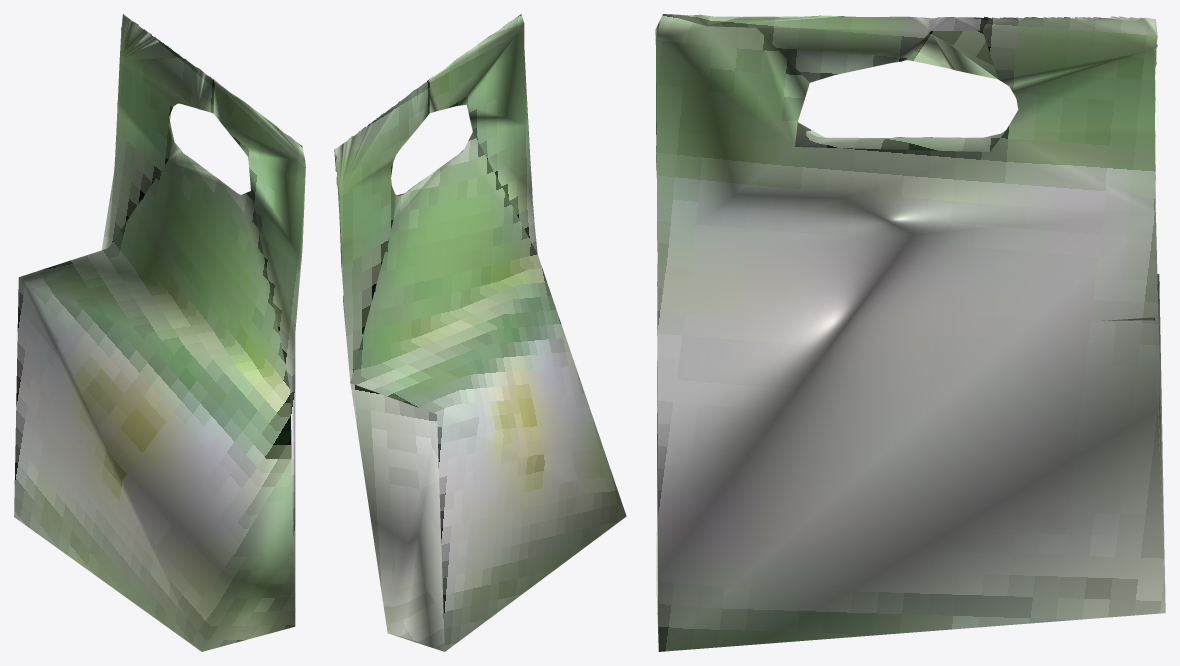
Rendered from Dell_Ink_Cartridge_Yellow_31-low.glb.
3 renders of one model, left to right at view 1: azimuth 30°, elevation 25°; view 2: azimuth 150°, elevation 25°; view 3: azimuth 270°, elevation 25°, orthographic. The views are drawn at different scales.
Visible parts, largest first — view 1: Dell_Ink_Cartridge_Yellow_31; view 2: Dell_Ink_Cartridge_Yellow_31; view 3: Dell_Ink_Cartridge_Yellow_31.
Boxes of the visible parts, <box> form: Dell_Ink_Cartridge_Yellow_31: <box>14,14,305,651</box>; Dell_Ink_Cartridge_Yellow_31: <box>334,14,626,651</box>; Dell_Ink_Cartridge_Yellow_31: <box>655,14,1165,651</box>.
Size of the model in its own units: 0.0334 by 0.1386 by 0.0992.
1 material, 1 textured.
